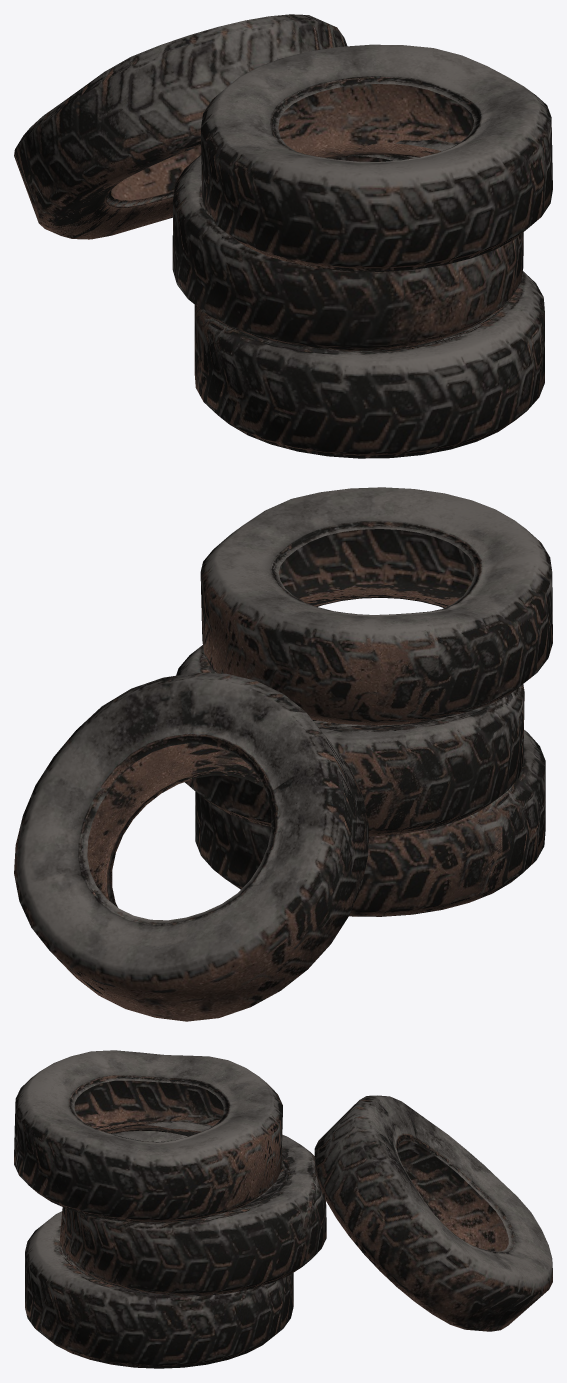
File: old_tires_-_dirt_low_poly.glb
3 views of the same model, one above another, from view 1: azimuth 30°, elevation 25°; view 2: azimuth 150°, elevation 25°; view 3: azimuth 270°, elevation 25° (orthographic). The views are drawn at different scales.
Parts seen in each view (by area): view 1: Cylinder; view 2: Cylinder; view 3: Cylinder.
Part boxes in pixels (box(x1,y1,x2,y2)): Cylinder: box(14, 14, 552, 458); Cylinder: box(14, 487, 552, 1021); Cylinder: box(14, 1050, 552, 1368).
Bounding box in the file's own units: 1 × 0.911 × 2.
Materials: 1 (1 with a texture image).
